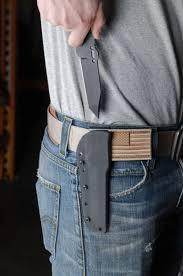Knife: (77, 33, 103, 119)
